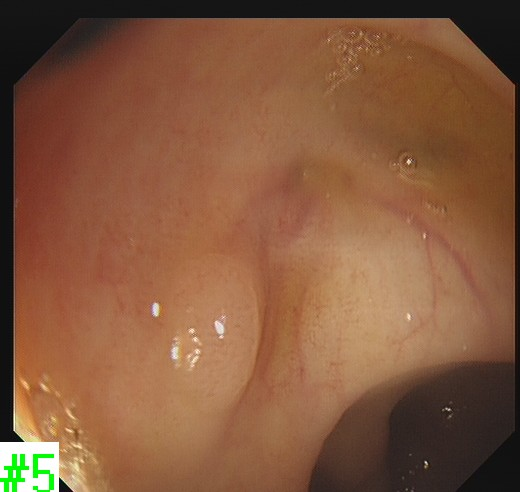adenoma: (160, 248, 263, 405)
